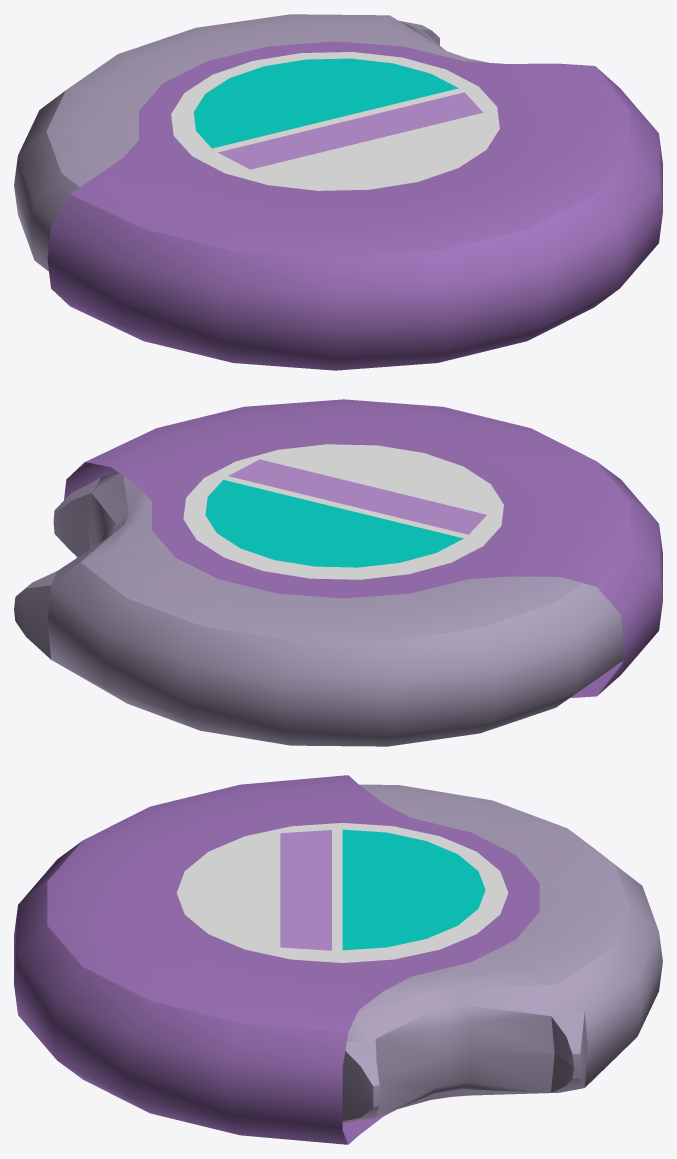
Rendered from advair.fbx.
3 views of the same model, one above another, from view 1: azimuth 30°, elevation 25°; view 2: azimuth 150°, elevation 25°; view 3: azimuth 270°, elevation 25° (orthographic). The views are drawn at different scales.
Parts seen in each view (by area): view 1: pCylinder1, pCylinder2, pCylinder3, pCylinder4, pPlane1; view 2: pCylinder2, pCylinder1, pCylinder3, pCylinder4, pPlane1; view 3: pCylinder1, pCylinder2, pCylinder3, pCylinder4, pPlane1.
Part boxes in pixels (<box>): pCylinder1: <box>47,41,662,370</box>; pCylinder2: <box>14,14,487,271</box>; pCylinder3: <box>171,52,499,190</box>; pCylinder4: <box>193,58,458,148</box>; pPlane1: <box>218,92,483,169</box>; pCylinder2: <box>14,472,624,746</box>; pCylinder1: <box>64,399,662,697</box>; pCylinder3: <box>183,444,503,579</box>; pCylinder4: <box>205,480,463,567</box>; pPlane1: <box>228,459,486,534</box>; pCylinder1: <box>14,775,539,1144</box>; pCylinder2: <box>342,784,662,1122</box>; pCylinder3: <box>177,823,508,962</box>; pCylinder4: <box>342,829,485,950</box>; pPlane1: <box>280,830,331,950</box>.
Bounding box in the file's own units: 34.52 × 7.57 × 33.57.
